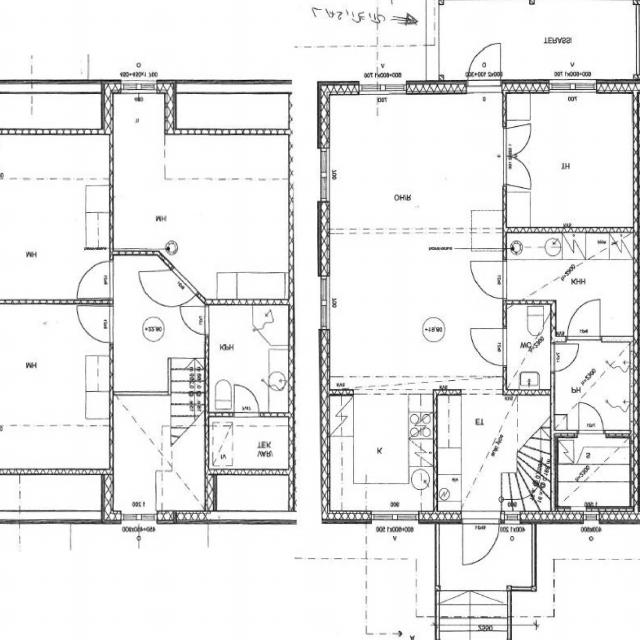door: (151, 266, 198, 320), (463, 510, 499, 564), (468, 42, 500, 94), (469, 261, 508, 298), (568, 299, 601, 341), (76, 260, 113, 297), (470, 329, 508, 365), (76, 306, 114, 342), (579, 401, 604, 437), (234, 383, 260, 417), (502, 128, 532, 156), (180, 306, 209, 334), (502, 156, 532, 183), (551, 344, 579, 371)
